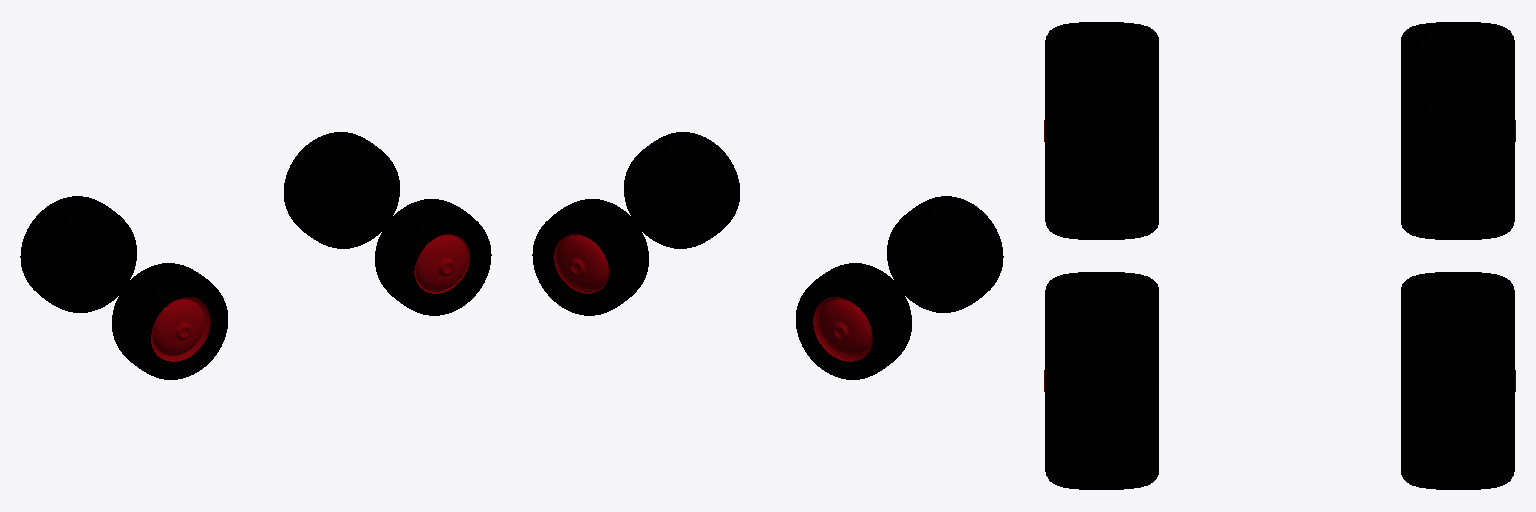
robot.urdf — my_car:
<?xml version="1.0"?>
<robot name="my_car">
  <link name="base_link">
    <visual>
      <origin xyz="0 0 0" rpy="0 0 0"/>
      <geometry>
        <mesh filename="package://super_sim_dynamics/models/my_car/meshes/car_body_aligned.dae"/>
      </geometry>
    </visual>
    <collision>
      <origin xyz="0.3 0 0.35" rpy="0 0 0"/>
      <geometry>
        <box size="4.8 1.95 1.15"/>
      </geometry>
    </collision>
    <inertial>
      <origin xyz="0.0 0 0.12" rpy="0 0 0"/>
      <mass value="1350.0"/>
      <inertia ixx="500.0" ixy="0.0" ixz="0.0" iyy="2400.0" iyz="0.0" izz="2700.0"/>
    </inertial>
  </link>

  <!-- Base footprint at ground level (REP-120) -->
  <link name="base_footprint"/>
  <joint name="base_footprint_joint" type="fixed">
    <parent link="base_footprint"/>
    <child link="base_link"/>
    <origin xyz="0 0 0.56985" rpy="0 0 0"/>
  </joint>

  <!-- Sensors Frames -->
  <link name="lidar_link"/>
  <joint name="lidar_joint" type="fixed">
    <parent link="base_link"/>
    <child link="lidar_link"/>
    <origin xyz="0.35 0 1.20" rpy="0 0 0"/>
  </joint>

  <link name="camera_link"/>
  <joint name="camera_joint" type="fixed">
    <parent link="base_link"/>
    <child link="camera_link"/>
    <origin xyz="0.80 0 0.95" rpy="0 0.05 0"/>
  </joint>

  <link name="imu_link"/>
  <joint name="imu_joint" type="fixed">
    <parent link="base_link"/>
    <child link="imu_link"/>
    <origin xyz="0 0 0.12" rpy="0 0 0"/>
  </joint>

  <!-- Front Left Steering and Wheel -->
  <link name="steer_knuckle_front_left">
    <inertial>
      <mass value="8.0"/>
      <inertia ixx="0.02" ixy="0" ixz="0" iyy="0.02" iyz="0" izz="0.02"/>
    </inertial>
  </link>
  <joint name="steer_front_left" type="revolute">
    <parent link="base_link"/>
    <child link="steer_knuckle_front_left"/>
    <origin xyz="1.5416 0.92825 0" rpy="0 0 0"/>
    <axis xyz="0 0 1"/>
    <limit lower="-0.65" upper="0.65" effort="1000" velocity="5"/>
  </joint>

  <link name="wheel_front_left">
    <visual>
      <origin xyz="0 0 0" rpy="0 0 0"/>
      <geometry>
        <mesh filename="package://super_sim_dynamics/models/my_car/meshes/wheel_fl_aligned.dae"/>
      </geometry>
    </visual>
    <collision>
      <origin xyz="0 0 0" rpy="1.5707963 0 0"/>
      <geometry>
        <cylinder radius="0.56985" length="0.35"/>
      </geometry>
    </collision>
    <inertial>
      <mass value="28.0"/>
      <inertia ixx="1.8" ixy="0" ixz="0" iyy="3.2" iyz="0" izz="1.8"/>
    </inertial>
  </link>
  <joint name="wheel_front_left_spin" type="continuous">
    <parent link="steer_knuckle_front_left"/>
    <child link="wheel_front_left"/>
    <origin xyz="0 0 0" rpy="0 0 0"/>
    <axis xyz="0 1 0"/>
  </joint>

  <!-- Front Right Steering and Wheel -->
  <link name="steer_knuckle_front_right">
    <inertial>
      <mass value="8.0"/>
      <inertia ixx="0.02" ixy="0" ixz="0" iyy="0.02" iyz="0" izz="0.02"/>
    </inertial>
  </link>
  <joint name="steer_front_right" type="revolute">
    <parent link="base_link"/>
    <child link="steer_knuckle_front_right"/>
    <origin xyz="1.5416 -0.92825 0" rpy="0 0 0"/>
    <axis xyz="0 0 1"/>
    <limit lower="-0.65" upper="0.65" effort="1000" velocity="5"/>
  </joint>

  <link name="wheel_front_right">
    <visual>
      <origin xyz="0 0 0" rpy="0 0 0"/>
      <geometry>
        <mesh filename="package://super_sim_dynamics/models/my_car/meshes/wheel_fr_aligned.dae"/>
      </geometry>
    </visual>
    <collision>
      <origin xyz="0 0 0" rpy="1.5707963 0 0"/>
      <geometry>
        <cylinder radius="0.56985" length="0.35"/>
      </geometry>
    </collision>
    <inertial>
      <mass value="28.0"/>
      <inertia ixx="1.8" ixy="0" ixz="0" iyy="3.2" iyz="0" izz="1.8"/>
    </inertial>
  </link>
  <joint name="wheel_front_right_spin" type="continuous">
    <parent link="steer_knuckle_front_right"/>
    <child link="wheel_front_right"/>
    <origin xyz="0 0 0" rpy="0 0 0"/>
    <axis xyz="0 1 0"/>
  </joint>

  <!-- Rear Left Wheel -->
  <link name="wheel_rear_left">
    <visual>
      <origin xyz="0 0 0" rpy="0 0 0"/>
      <geometry>
        <mesh filename="package://super_sim_dynamics/models/my_car/meshes/wheel_rl_aligned.dae"/>
      </geometry>
    </visual>
    <collision>
      <origin xyz="0 0 0" rpy="1.5707963 0 0"/>
      <geometry>
        <cylinder radius="0.56985" length="0.35"/>
      </geometry>
    </collision>
    <inertial>
      <mass value="28.0"/>
      <inertia ixx="1.8" ixy="0" ixz="0" iyy="3.2" iyz="0" izz="1.8"/>
    </inertial>
  </link>
  <joint name="wheel_rear_left_spin" type="continuous">
    <parent link="base_link"/>
    <child link="wheel_rear_left"/>
    <origin xyz="-1.5416 0.92825 0" rpy="0 0 0"/>
    <axis xyz="0 1 0"/>
  </joint>

  <!-- Rear Right Wheel -->
  <link name="wheel_rear_right">
    <visual>
      <origin xyz="0 0 0" rpy="0 0 0"/>
      <geometry>
        <mesh filename="package://super_sim_dynamics/models/my_car/meshes/wheel_rr_aligned.dae"/>
      </geometry>
    </visual>
    <collision>
      <origin xyz="0 0 0" rpy="1.5707963 0 0"/>
      <geometry>
        <cylinder radius="0.56985" length="0.35"/>
      </geometry>
    </collision>
    <inertial>
      <mass value="28.0"/>
      <inertia ixx="1.8" ixy="0" ixz="0" iyy="3.2" iyz="0" izz="1.8"/>
    </inertial>
  </link>
  <joint name="wheel_rear_right_spin" type="continuous">
    <parent link="base_link"/>
    <child link="wheel_rear_right"/>
    <origin xyz="-1.5416 -0.92825 0" rpy="0 0 0"/>
    <axis xyz="0 1 0"/>
  </joint>
</robot>

--- Facts derived from the render (not from the file) ---
3 views of the same robot in one strip: view 1: azimuth 30°, elevation 25°; view 2: azimuth 150°, elevation 25°; view 3: azimuth 270°, elevation 25° (orthographic).
Robot: my_car — 11 links, 10 joints (2 revolute, 4 continuous, 4 fixed); root link base_footprint; default pose: every joint at zero.
Visible links, largest first — view 1: wheel_front_right, wheel_rear_right, wheel_rear_left, wheel_front_left; view 2: wheel_front_left, wheel_rear_left, wheel_rear_right, wheel_front_right; view 3: wheel_front_left, wheel_front_right, wheel_rear_left, wheel_rear_right.
Boxes of the visible links, box(x1,y1,x2,y2) form: wheel_front_right: box(375, 199, 491, 315); wheel_rear_right: box(112, 263, 227, 379); wheel_rear_left: box(20, 196, 136, 312); wheel_front_left: box(284, 132, 399, 248); wheel_front_left: box(532, 199, 648, 315); wheel_rear_left: box(796, 263, 911, 379); wheel_rear_right: box(887, 196, 1003, 312); wheel_front_right: box(624, 132, 739, 248); wheel_front_left: box(1401, 272, 1515, 489); wheel_front_right: box(1044, 272, 1158, 489); wheel_rear_left: box(1401, 22, 1515, 239); wheel_rear_right: box(1044, 22, 1158, 239).
Size in the robot's own frame: 4.22 by 2.46 by 1.14 metres.
4 mesh visuals loaded from 5 distinct referenced files (4 Collada DAE); not drawn: 1 (reference not matched to a file when rendering).
